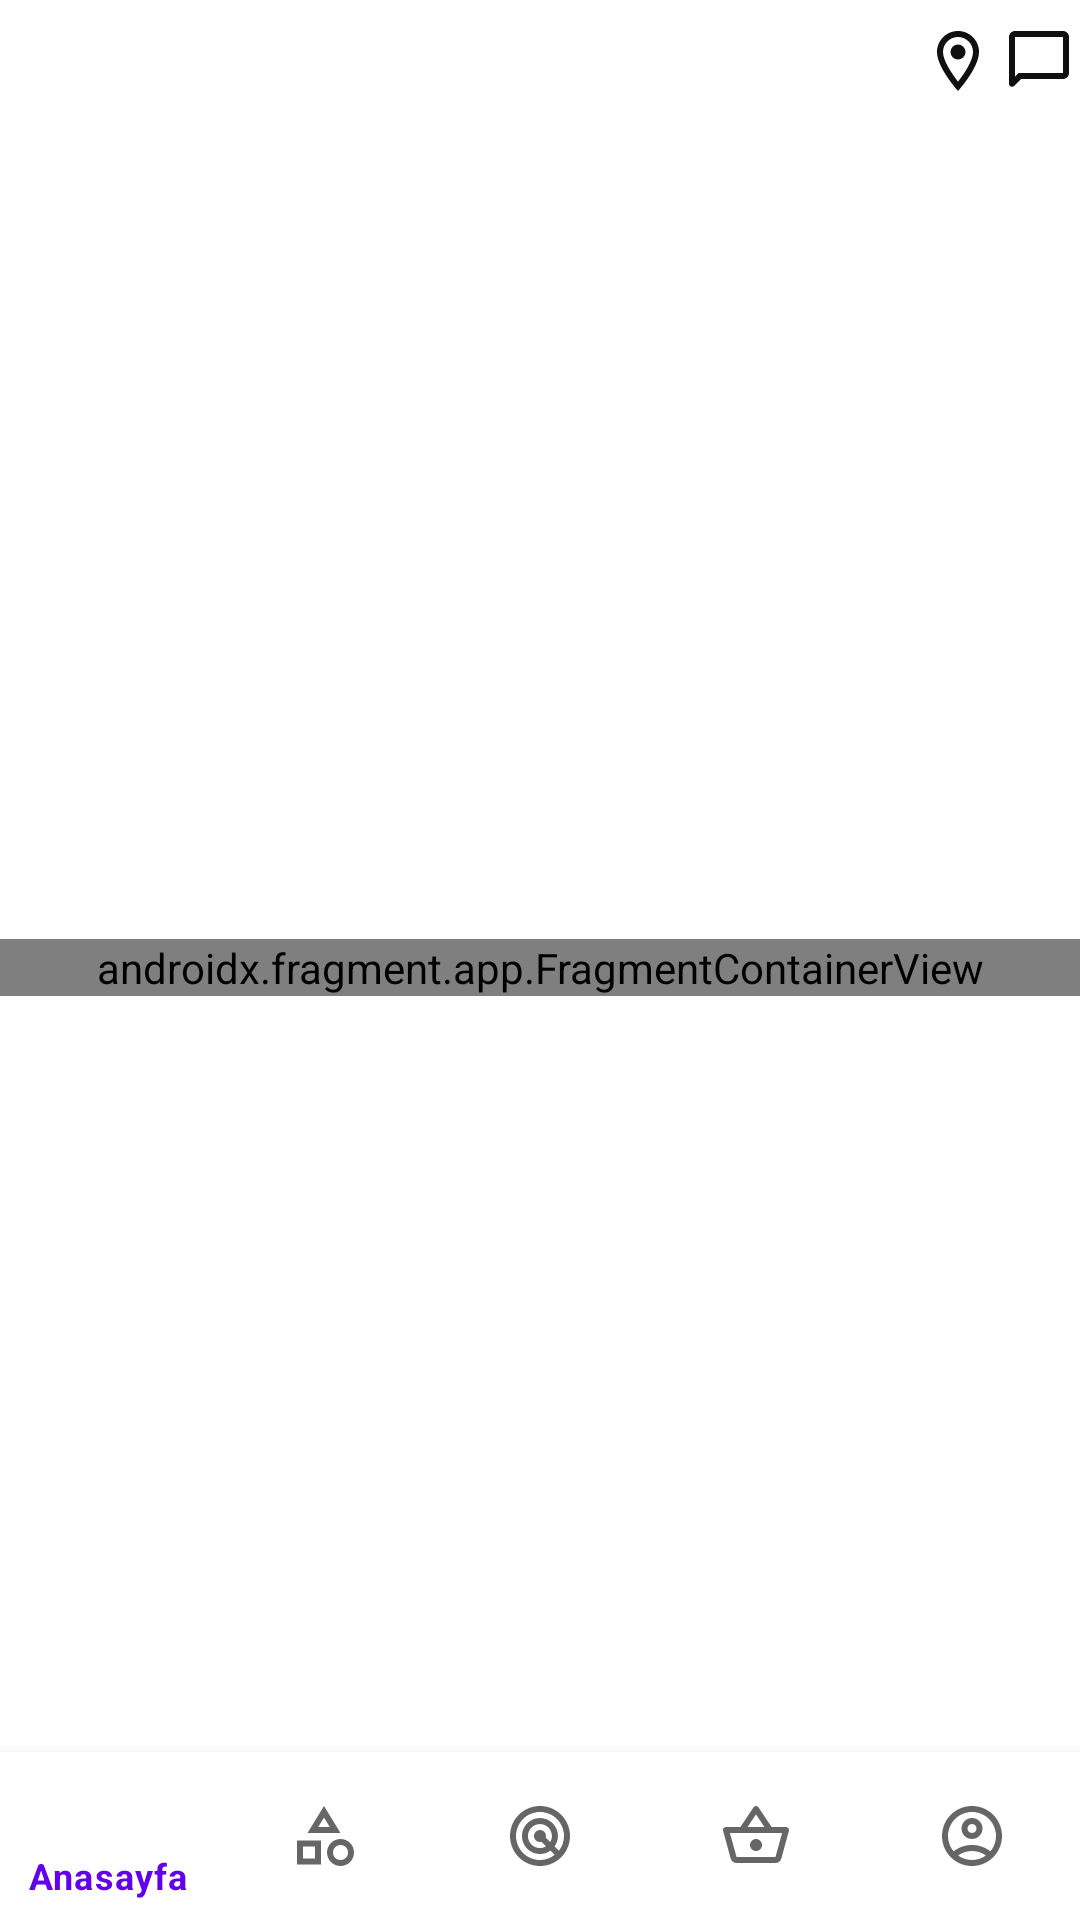

Where to tap for icons on this 1080 × 1920 app screen, as point (x, y):
chat: point (1039, 59)
location: point (958, 61)
